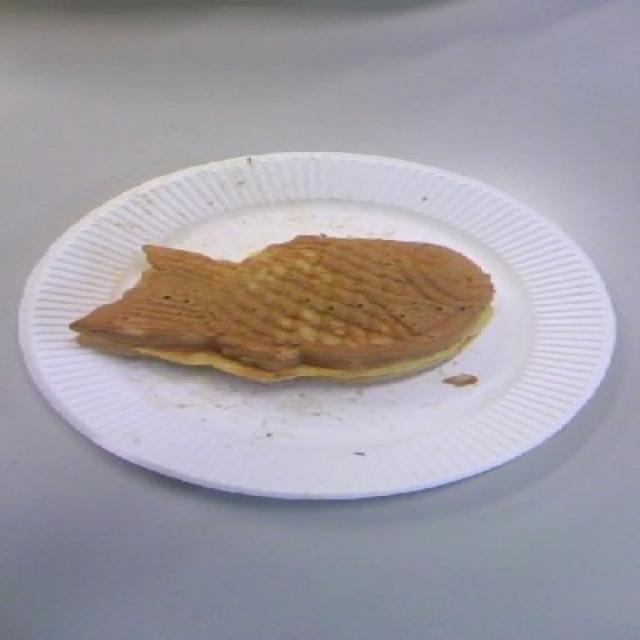熟制海鲜: (7, 140, 622, 520)
